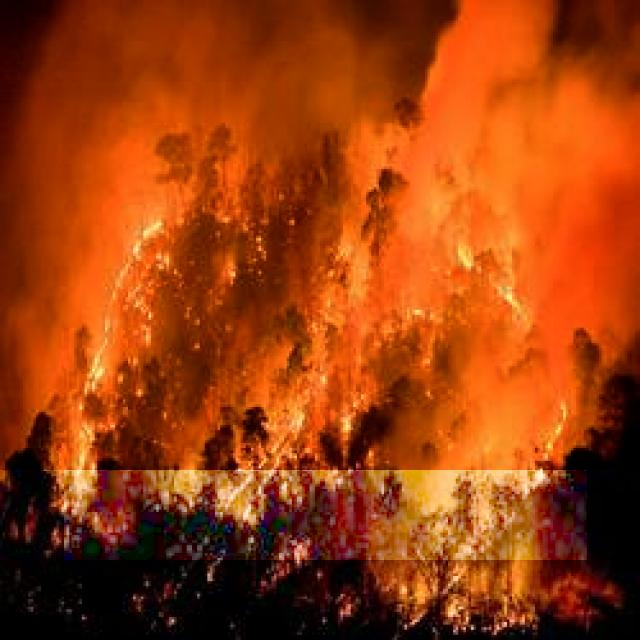Fire: (64, 161, 587, 560)
Smoke: (0, 0, 640, 470)
